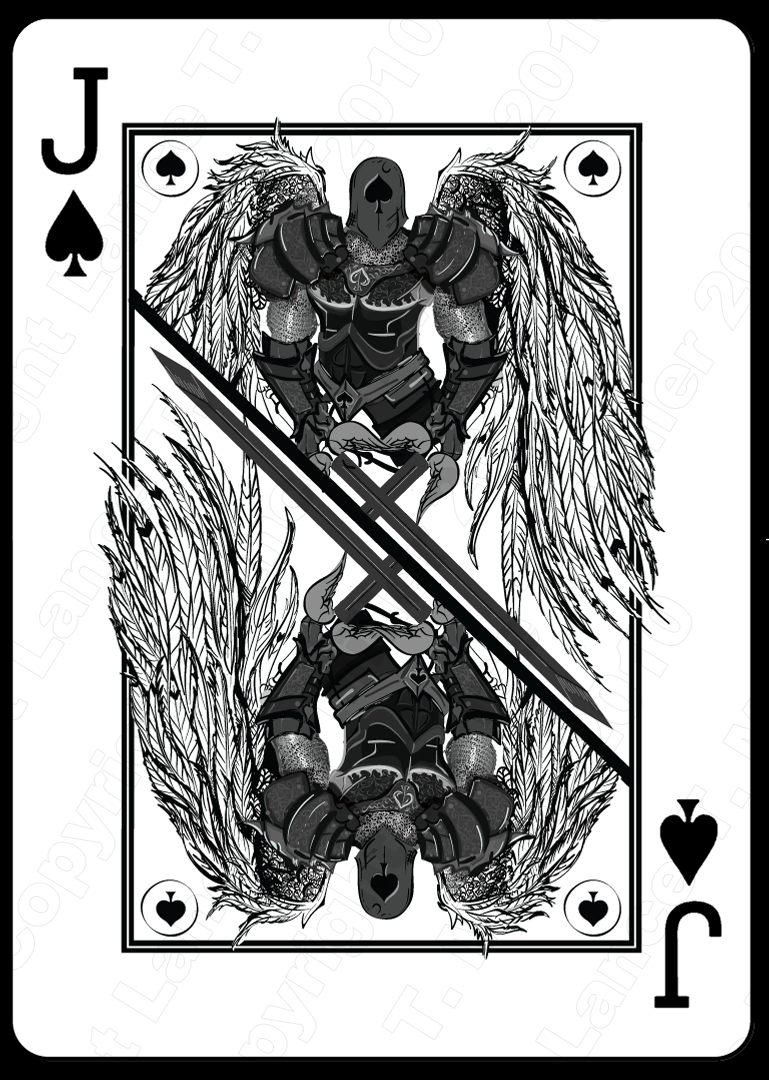jack of spades: (16, 16, 742, 1060)
